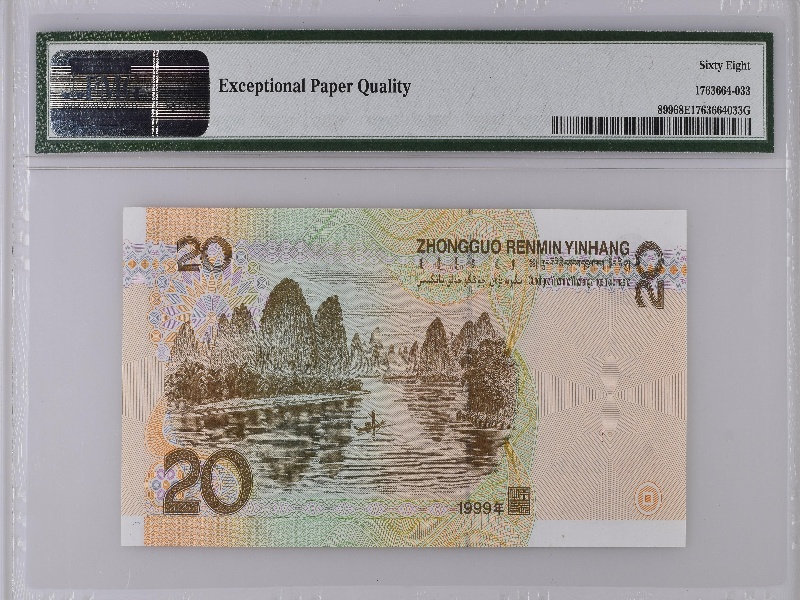papernote: (119, 203, 688, 551)
